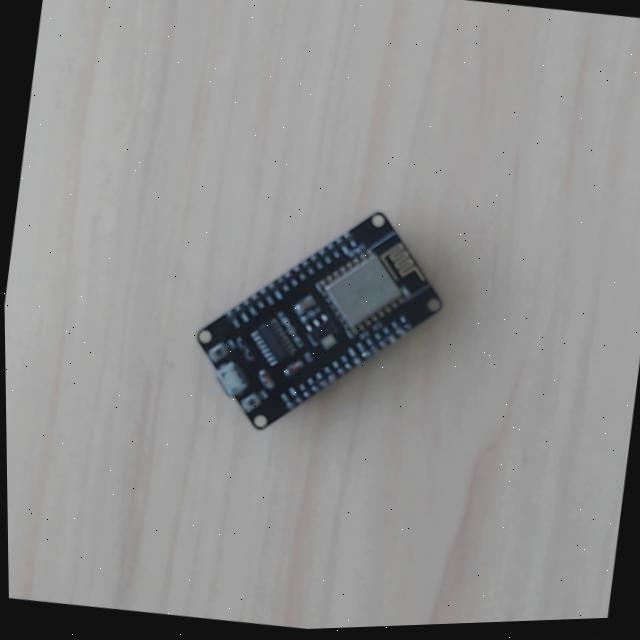ESP8266-NodeMCU: (188, 209, 445, 435)
